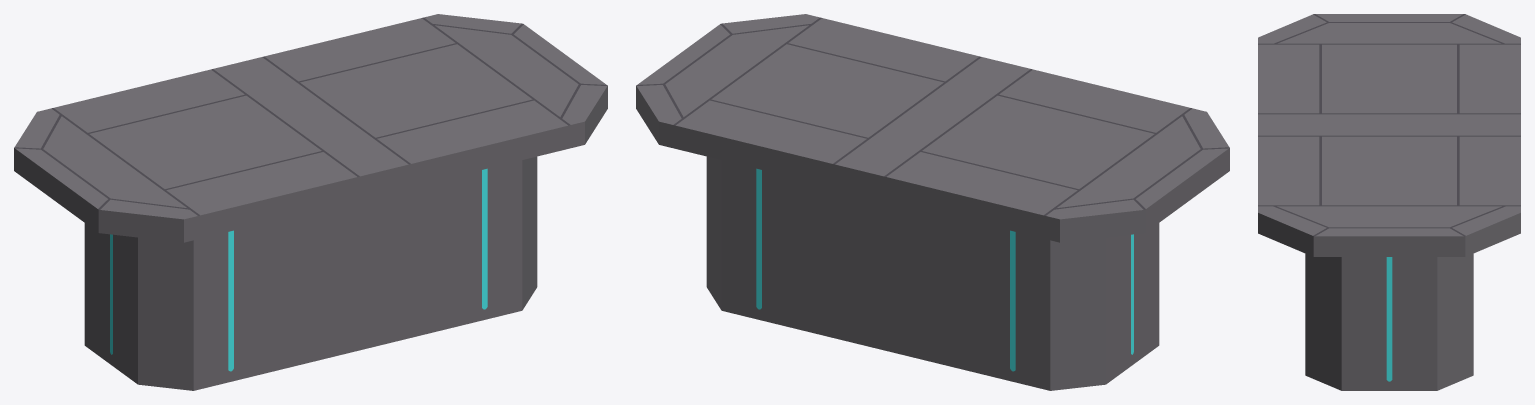
The model's file is SM_Props_Furniture_05.fbx.
The picture shows the model from 3 angles, left to right: view 1: azimuth 30°, elevation 25°; view 2: azimuth 150°, elevation 25°; view 3: azimuth 270°, elevation 25°; orthographic projection. The views are drawn at different scales.
Visible parts, largest first — view 1: SM_Props_Furniture_05; view 2: SM_Props_Furniture_05; view 3: SM_Props_Furniture_05.
Part boxes in pixels (x1,y1,x2,y2): SM_Props_Furniture_05: [14, 14, 607, 390]; SM_Props_Furniture_05: [636, 14, 1229, 390]; SM_Props_Furniture_05: [1258, 14, 1520, 390].
Bounding box in the file's own units: 2 × 0.75 × 1.
